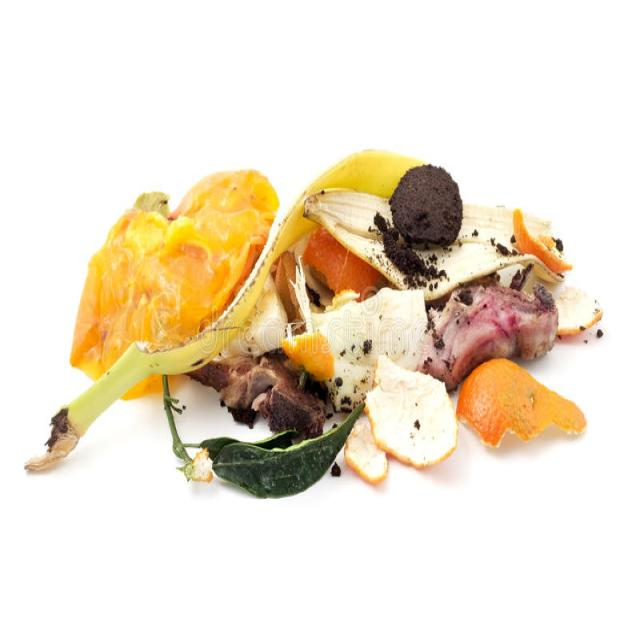Organic: (37, 161, 596, 507)
